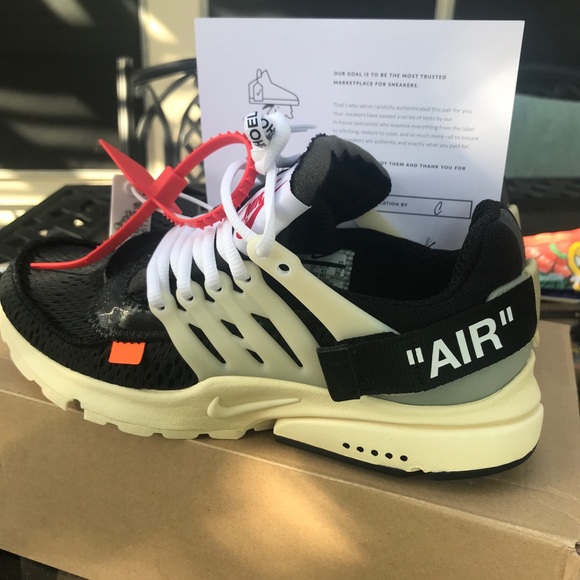Nike x OFF--WHITE Air Presto OG: (1, 128, 547, 481)
